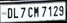character: (27, 6, 33, 17), (33, 6, 39, 17), (58, 5, 64, 16), (53, 4, 58, 17), (47, 4, 52, 16), (7, 7, 12, 18), (13, 7, 18, 18), (20, 6, 25, 17), (41, 5, 46, 16)
